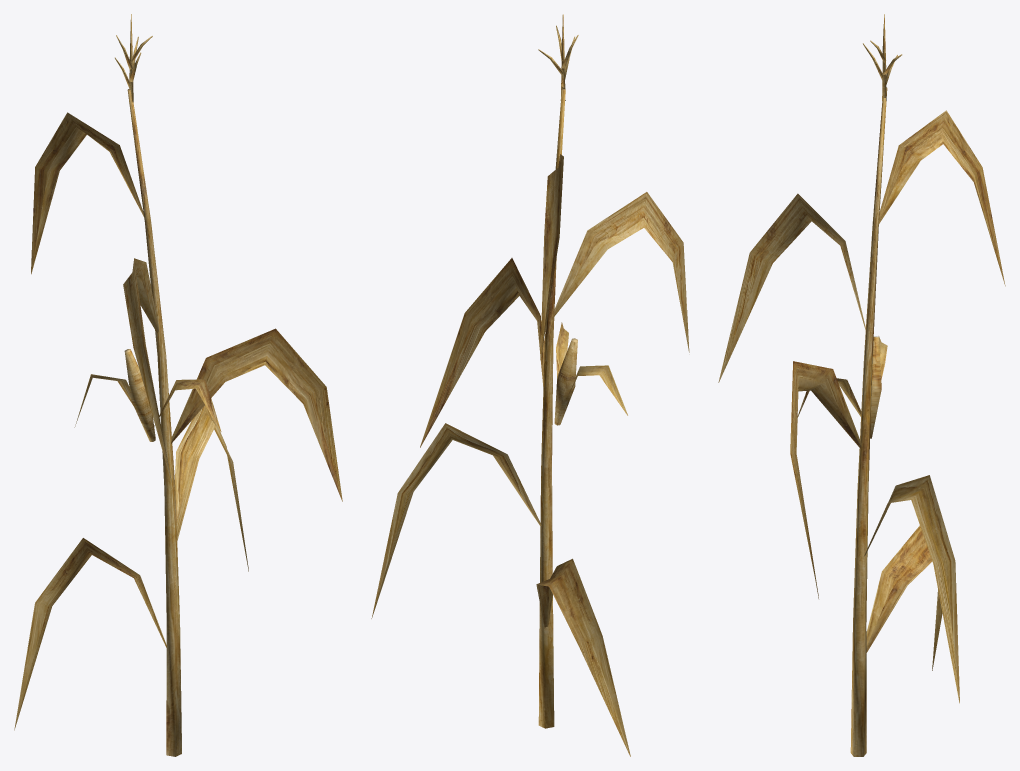
Rendered from Corn_C_Mid.fbx.
3 views of the same model, side by side, from view 1: azimuth 30°, elevation 25°; view 2: azimuth 150°, elevation 25°; view 3: azimuth 270°, elevation 25° (orthographic).
Visible parts, largest first — view 1: Corn_C_Mid; view 2: Corn_C_Mid; view 3: Corn_C_Mid.
Part boxes in pixels (x1,y1,x2,y2): Corn_C_Mid: (14,14,342,756); Corn_C_Mid: (371,14,689,756); Corn_C_Mid: (718,14,1005,756).
Size of the model in its own units: 3.08 by 8 by 2.87.
1 material, 1 textured.
